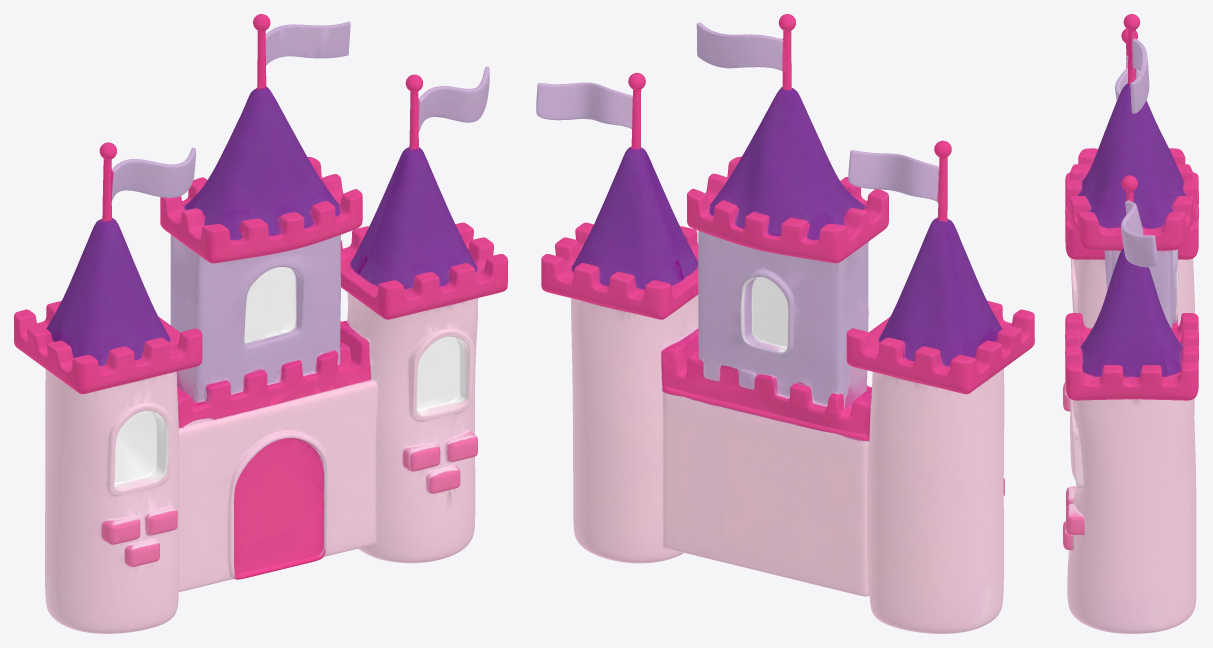
The model's file is Castello.glb.
3 renders of one model, left to right at view 1: azimuth 30°, elevation 25°; view 2: azimuth 150°, elevation 25°; view 3: azimuth 270°, elevation 25°, orthographic. The views are drawn at different scales.
Size of the model in its own units: 1.63 by 1.9 by 0.4426.
Materials: 1 (1 with a texture image).
